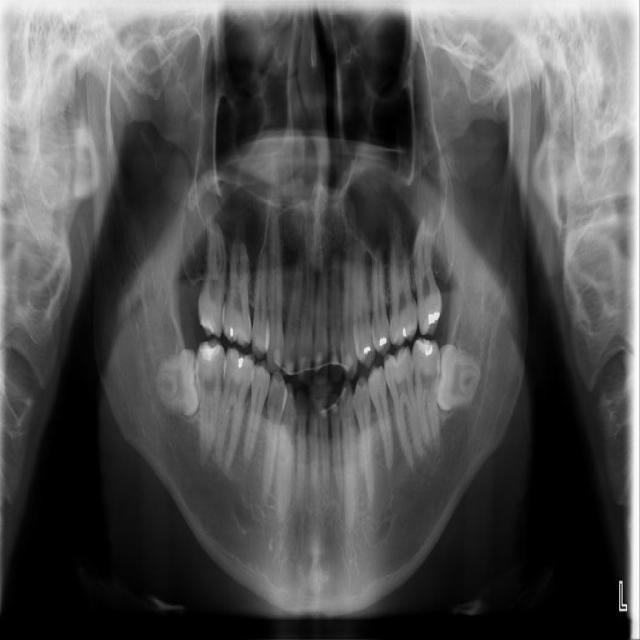Filling: (197, 343, 222, 361), (422, 309, 445, 328), (415, 339, 436, 357), (359, 341, 375, 361), (201, 315, 217, 332), (234, 354, 249, 370), (224, 325, 238, 339), (377, 336, 389, 348), (401, 326, 409, 340)
impacted tooth: (153, 346, 198, 415), (437, 344, 481, 414)
